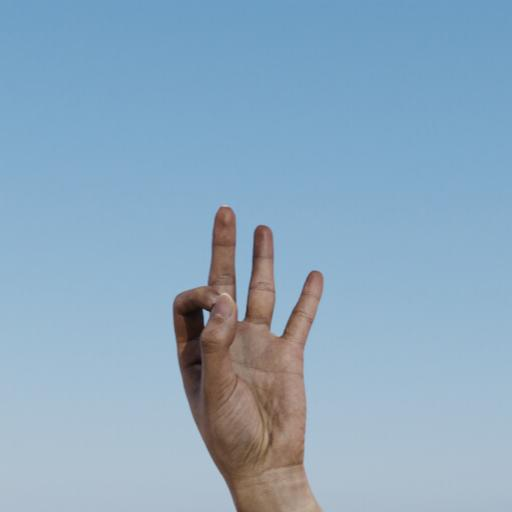F: (170, 200, 326, 474)
